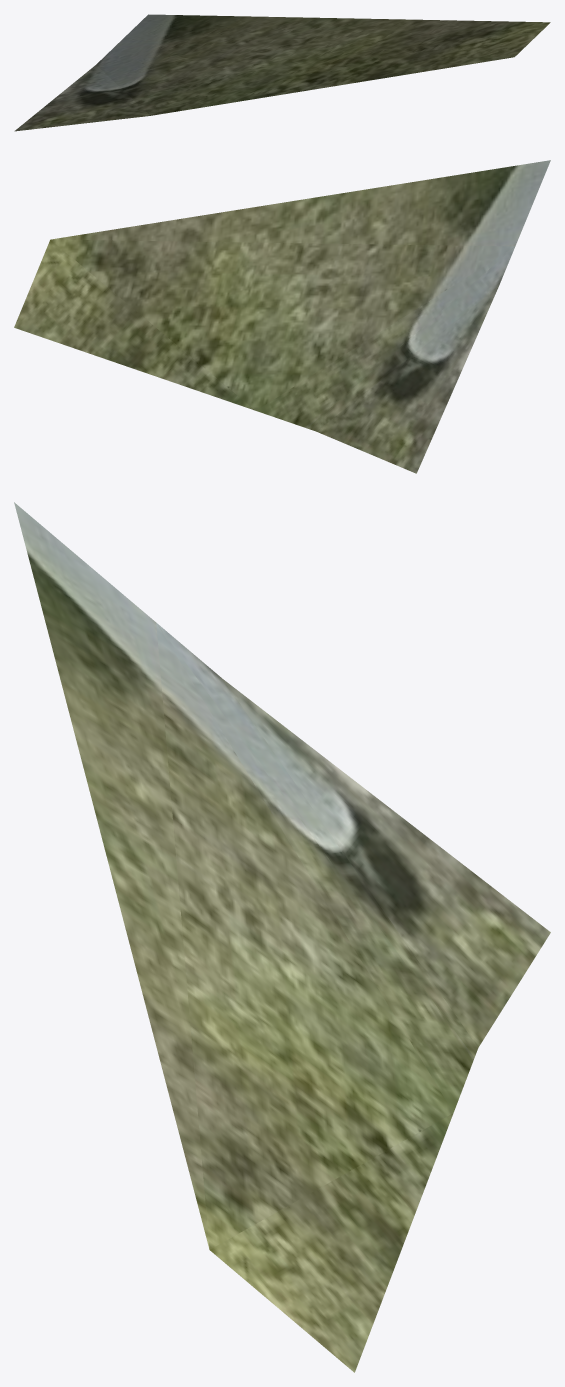
The picture shows the model from 3 angles, top to bottom: view 1: azimuth 30°, elevation 25°; view 2: azimuth 150°, elevation 25°; view 3: azimuth 270°, elevation 25°; orthographic projection. The views are drawn at different scales.
Size of the model in its own units: 2.95 by 1.34 by 1.52.
1 material, 1 textured.
